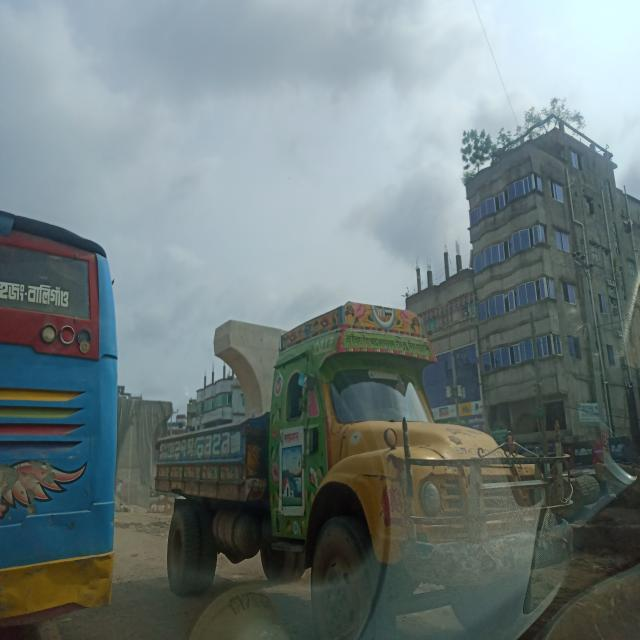bus: (0, 206, 122, 637)
truck: (154, 308, 573, 638)
